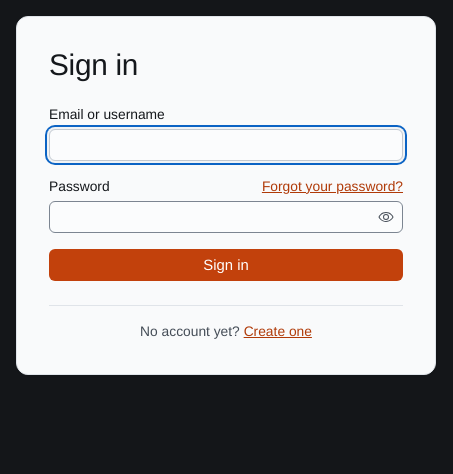
Scenario: LoginPage › says how long to wait when the server gave a Retry-After
In the field labelled "Email or username": (226, 145) [50,130,402,160], type "ada"
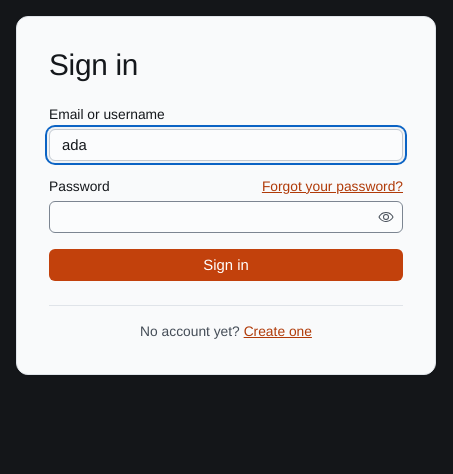
In the password field labelled "Password": (212, 217) [50,202,374,232], type "guess"
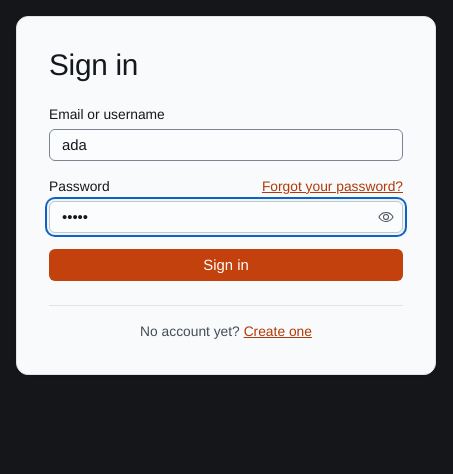
Click the button "Sign in": (226, 265) [49,249,403,281]
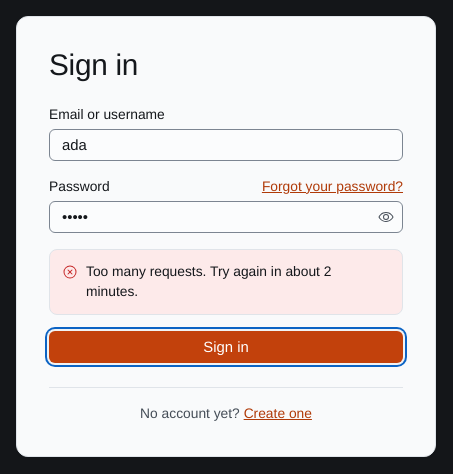
Expected: the message shows "Too many requests", [86,263,331,300]
Expected: the message shows "Try again in about 2 minutes", [86,263,331,300]
